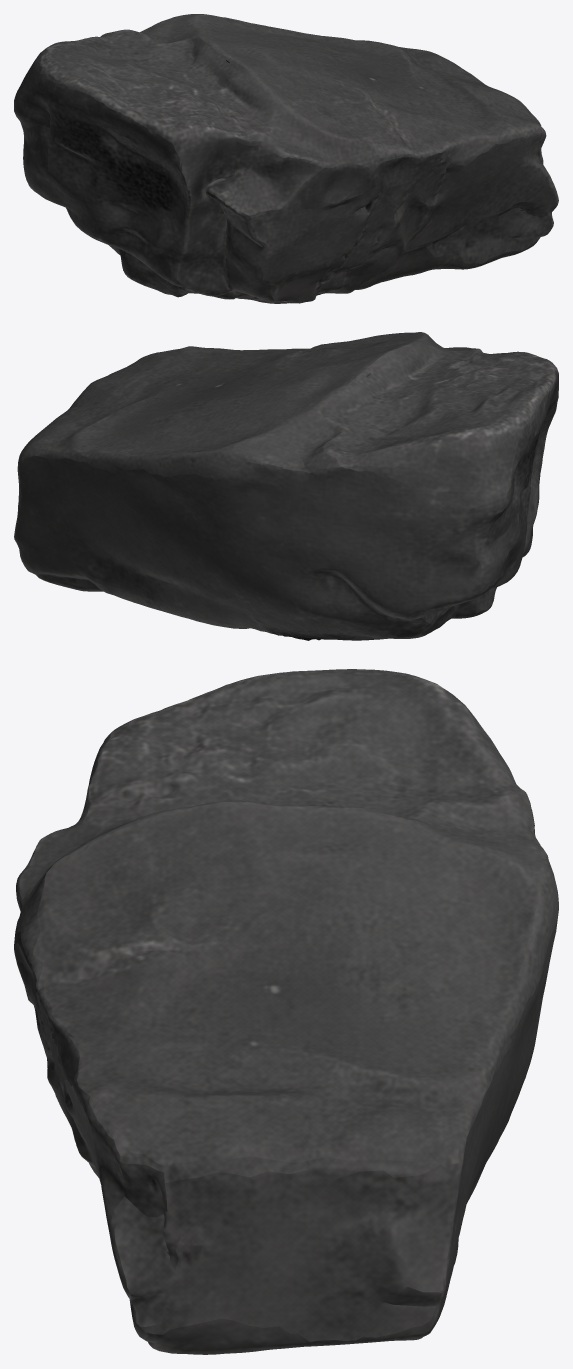
The picture shows the model from 3 angles, top to bottom: view 1: azimuth 30°, elevation 25°; view 2: azimuth 150°, elevation 25°; view 3: azimuth 270°, elevation 25°; orthographic projection. The views are drawn at different scales.
Parts seen in each view (by area): view 1: world; view 2: world; view 3: world.
Part boxes in pixels (x1,y1,x2,y2): world: (14,14,558,303); world: (14,332,558,640); world: (14,669,558,1354).
Size of the model in its own units: 3.5 by 1.76 by 2.34.
1 material, 1 textured.
